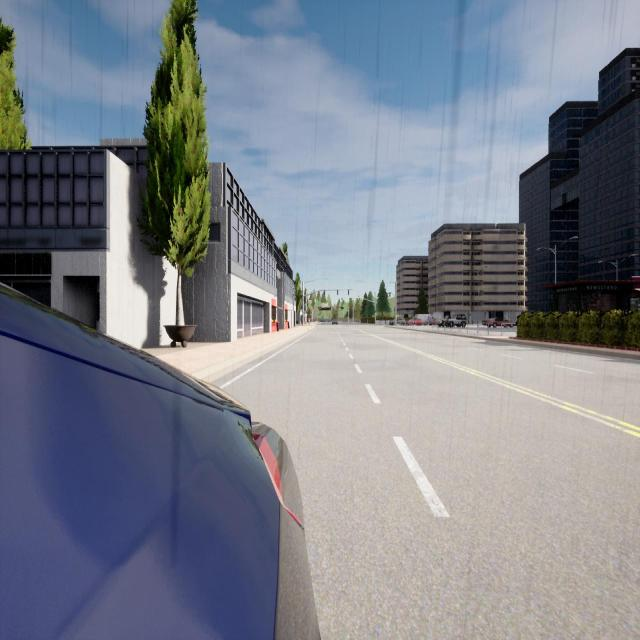Vehicle: (0, 284, 319, 638), (482, 317, 513, 328), (412, 314, 434, 326), (448, 314, 466, 328), (438, 315, 450, 327), (389, 318, 406, 326), (407, 318, 422, 326), (332, 318, 338, 325)
traffic_light: (349, 298, 351, 302), (374, 310, 376, 314), (348, 289, 349, 295), (324, 290, 325, 295), (337, 290, 338, 295), (394, 307, 395, 311), (341, 298, 343, 300), (359, 298, 360, 302), (390, 293, 390, 297)
